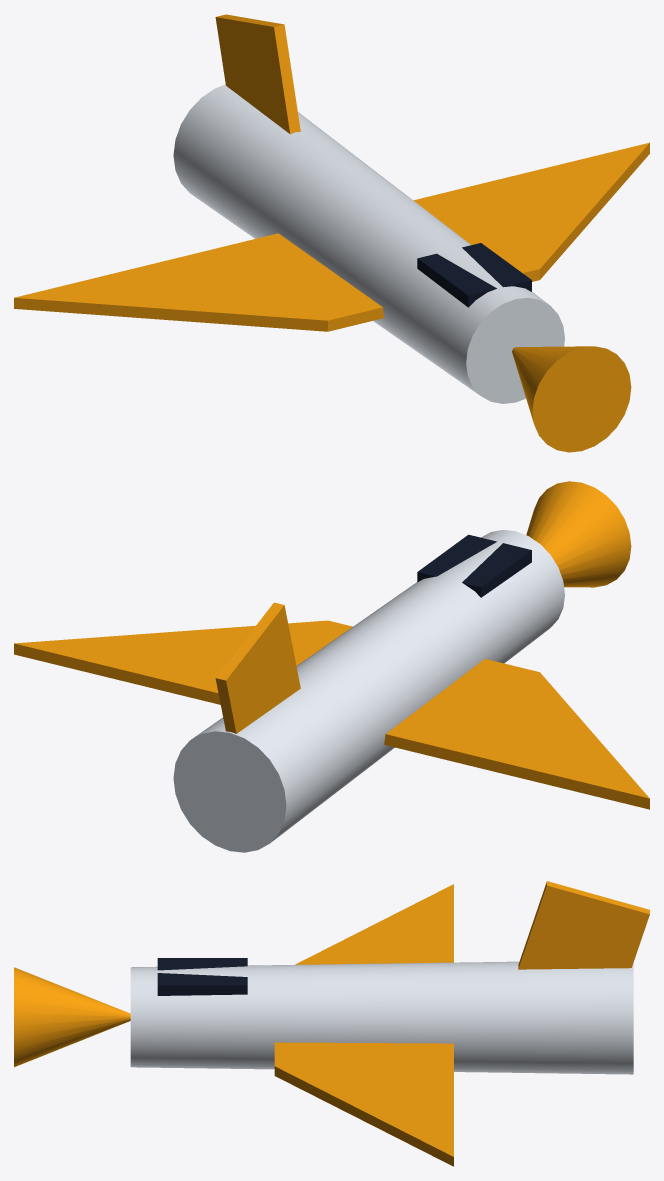
File: private_jet.glb
3 views of the same model, one above another, from view 1: azimuth 30°, elevation 25°; view 2: azimuth 150°, elevation 25°; view 3: azimuth 270°, elevation 25° (orthographic). The views are drawn at different scales.
Visible parts, largest first — view 1: PrivateJet; view 2: PrivateJet; view 3: PrivateJet.
Part boxes in pixels (left/top/right/bottom): PrivateJet: left=14, top=14, right=649, bottom=452; PrivateJet: left=14, top=481, right=649, bottom=852; PrivateJet: left=14, top=881, right=649, bottom=1166.
Bounding box in the file's own units: 1.8 × 0.5715 × 1.77.
